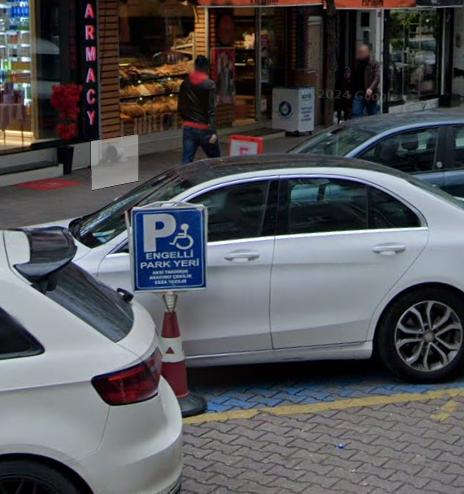disabledpark: (135, 211, 199, 256)
rightturnsareforbidden: (201, 257, 201, 260)
